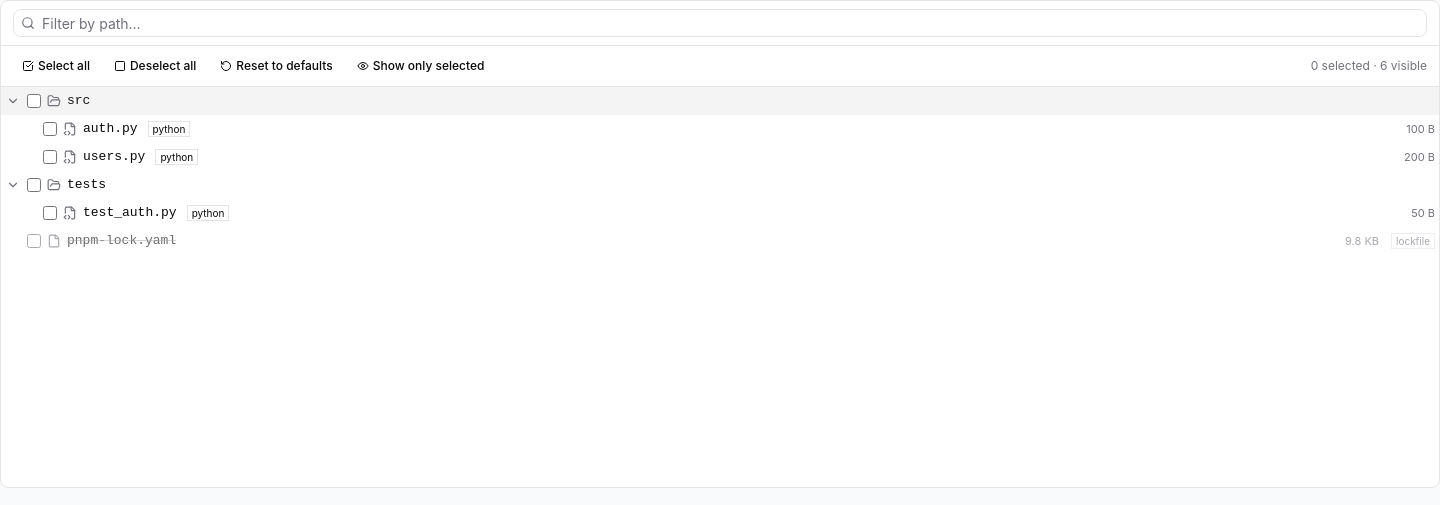
it: FileTree keyboard interaction › Select-all toolbar button respects the exclusion bypass
Click the button "Select all" at (56, 66), box [13,54,99,78]
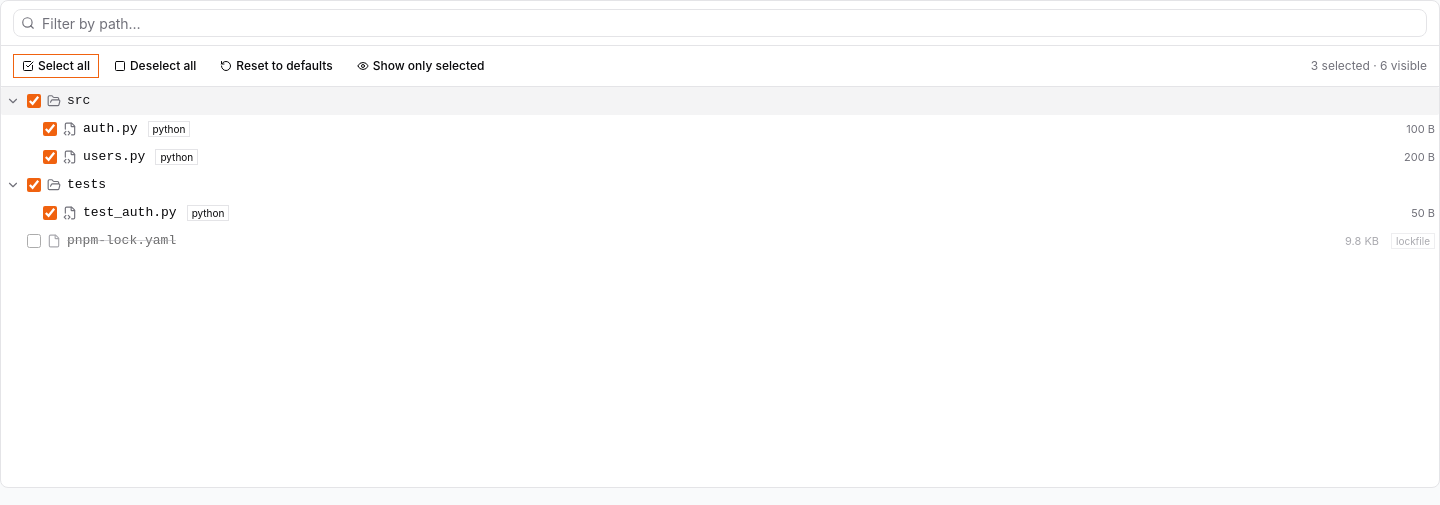
Expected: the text "3 selected · 6 visible" is shown, [1311,58,1427,74]
